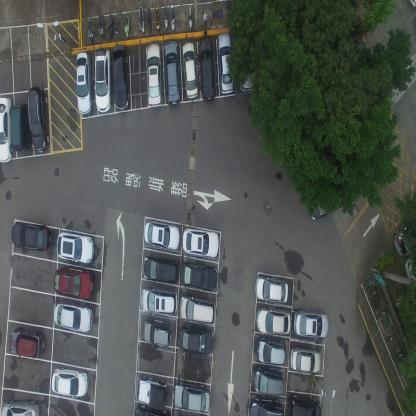car: (27, 85, 50, 152), (53, 266, 94, 299), (10, 222, 52, 252), (56, 230, 94, 263), (111, 44, 130, 110), (182, 226, 220, 258), (180, 261, 218, 293), (172, 381, 210, 413), (51, 366, 89, 398), (236, 31, 255, 94), (197, 38, 216, 101), (93, 46, 111, 112), (54, 303, 93, 333), (216, 32, 235, 93), (144, 220, 180, 252), (142, 256, 180, 286), (140, 286, 178, 316), (137, 374, 168, 410), (179, 294, 216, 324), (178, 326, 215, 356), (145, 42, 162, 107), (8, 329, 44, 359), (294, 308, 329, 338), (164, 39, 180, 104), (76, 51, 92, 114), (256, 306, 290, 335), (254, 275, 288, 303), (182, 40, 198, 99), (10, 103, 29, 152), (254, 366, 284, 396), (143, 317, 172, 347), (290, 345, 320, 374), (0, 95, 12, 164), (256, 337, 286, 364), (286, 393, 322, 415), (247, 397, 285, 415), (0, 400, 41, 415)
